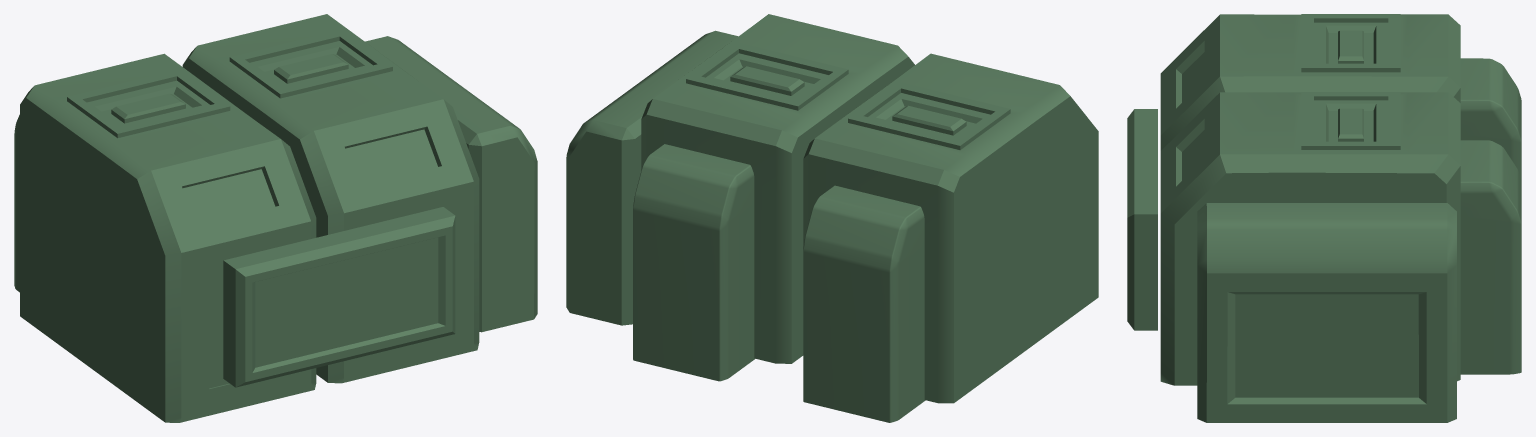
Rendered from Crates_01.fbx.
3 renders of one model, left to right at view 1: azimuth 30°, elevation 25°; view 2: azimuth 150°, elevation 25°; view 3: azimuth 270°, elevation 25°, orthographic.
Visible parts, largest first — view 1: pCube3, pCube17, pCube4, pCube5, pCube7; view 2: pCube3, pCube17, pCube8, pCube7, pCube5; view 3: pCube5, pCube17, pCube3, pCube8, pCube4, pCube7.
Part boxes in pixels (<box>): pCube3: <box>20,53,316,422</box>; pCube17: <box>182,14,479,383</box>; pCube4: <box>223,207,455,387</box>; pCube5: <box>365,36,537,332</box>; pCube7: <box>14,114,19,292</box>; pCube3: <box>803,53,1098,403</box>; pCube17: <box>641,14,914,363</box>; pCube8: <box>633,144,755,381</box>; pCube7: <box>803,185,925,422</box>; pCube5: <box>566,30,738,325</box>; pCube5: <box>1197,203,1456,422</box>; pCube17: <box>1160,92,1460,385</box>; pCube3: <box>1160,14,1460,150</box>; pCube8: <box>1460,140,1521,374</box>; pCube4: <box>1127,109,1157,330</box>; pCube7: <box>1460,58,1521,181</box>.
Size of the model in its own units: 544 by 312 by 483.
